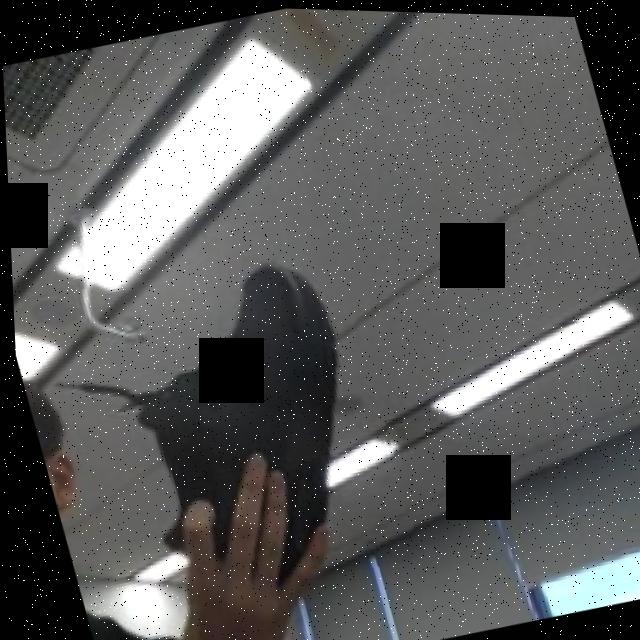shoe: (52, 229, 419, 619)
